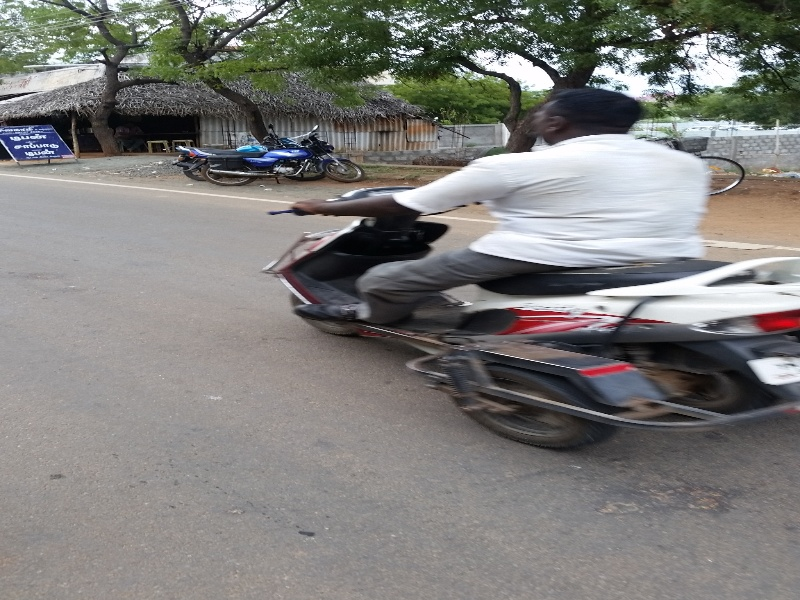biker: (245, 1, 800, 474)
nohelmet: (522, 76, 657, 154)
